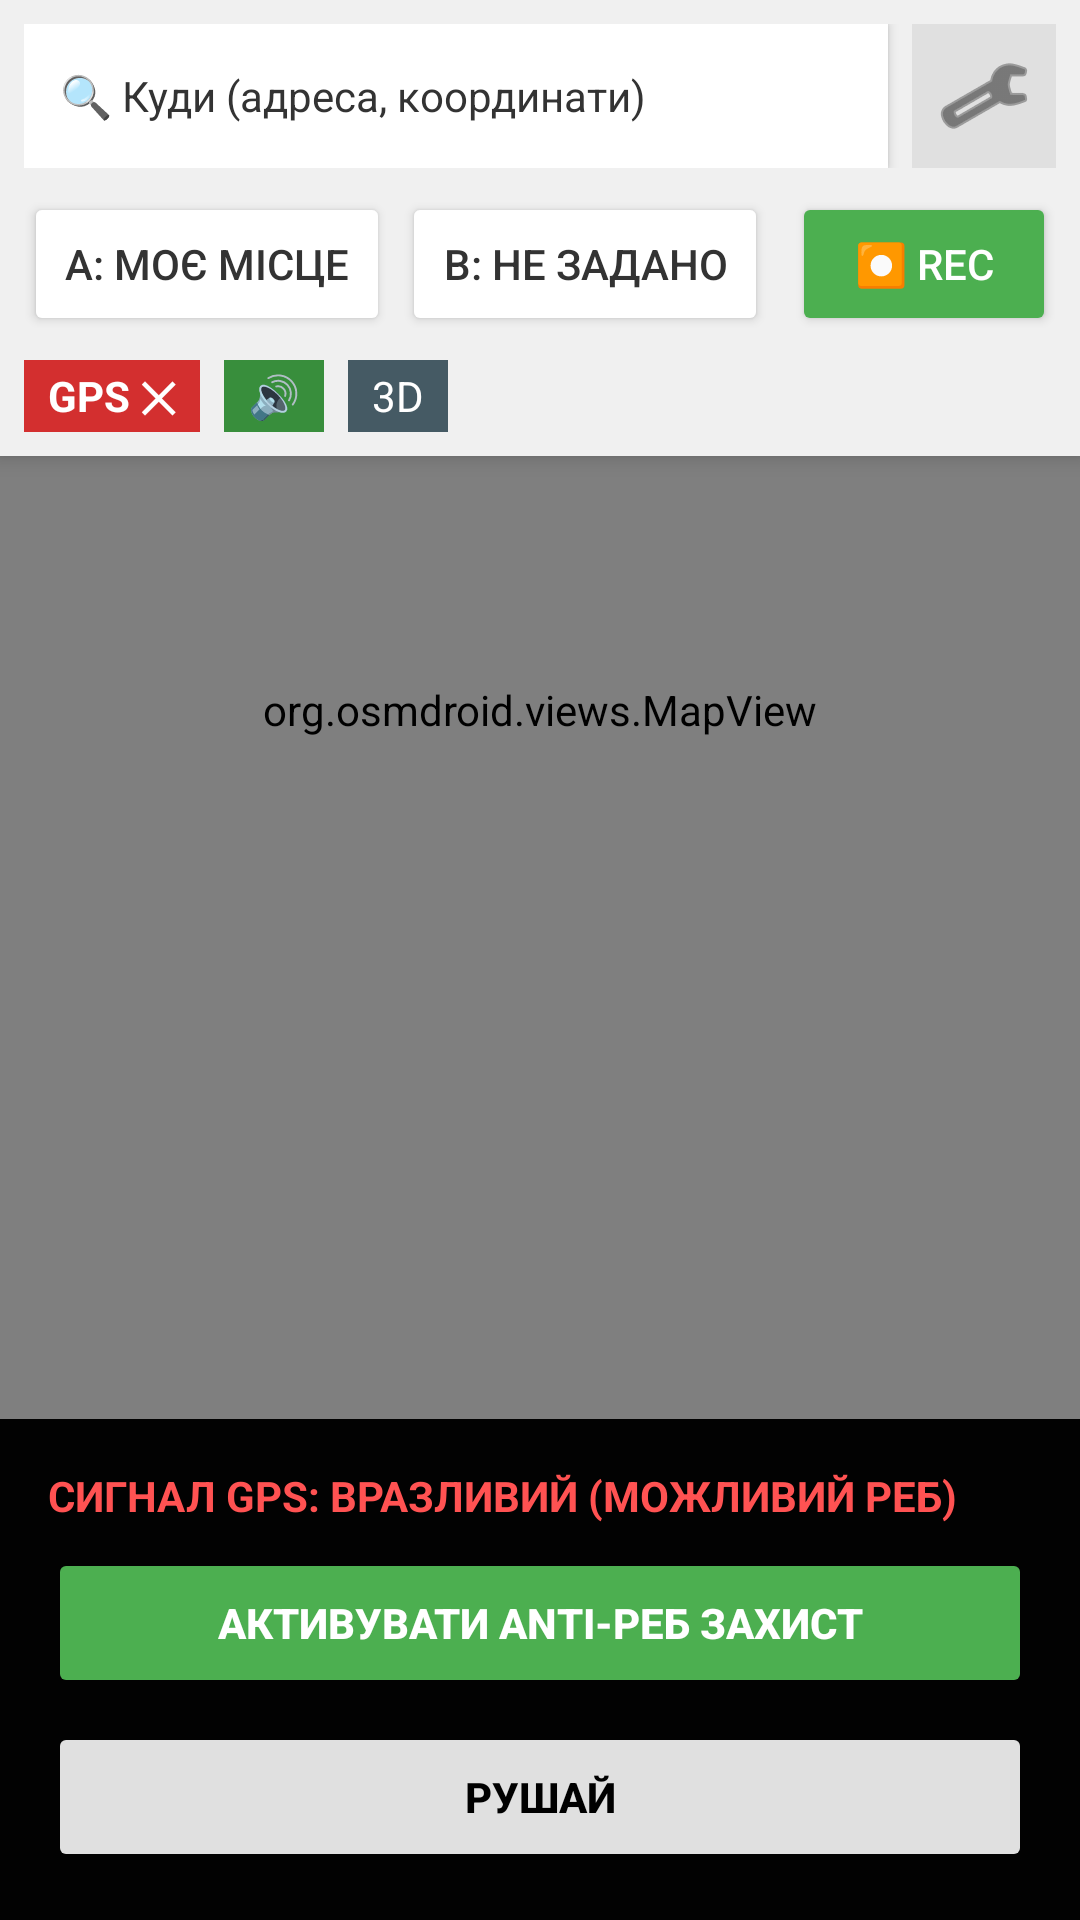

Named icons in this screenshot (1080 × 1920) and their bounding boxes, {"x1": x1, "y1": y1, "x2": x2, "y2": y2}:
preferences: {"x1": 912, "y1": 24, "x2": 1056, "y2": 168}
